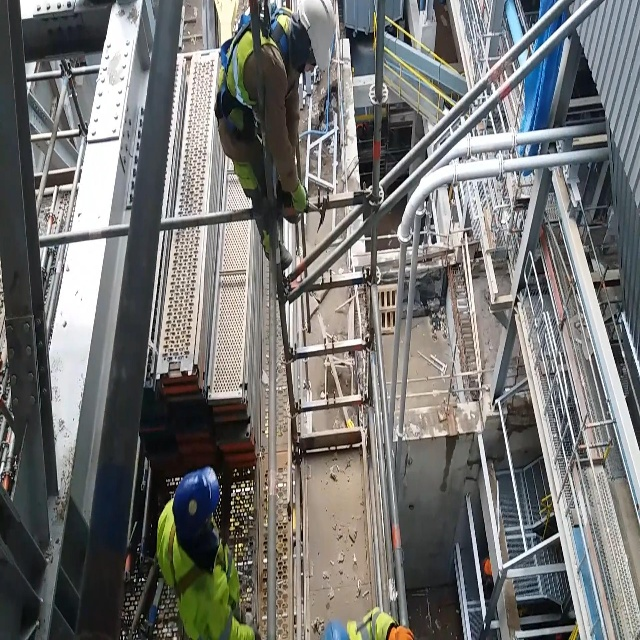Arnes_seguridad: (208, 11, 288, 177)
